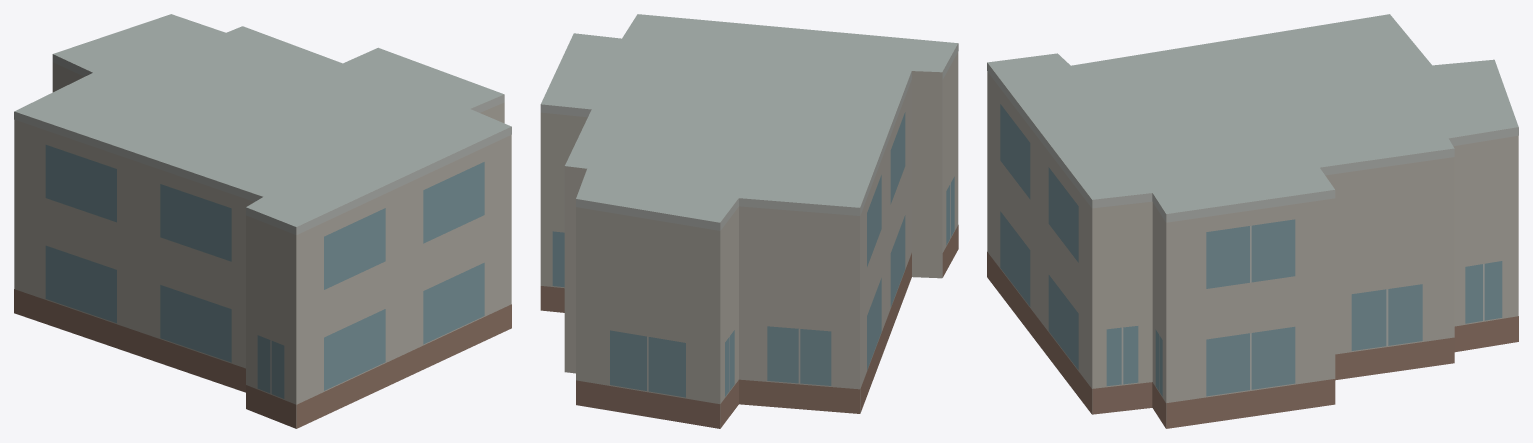
File: survey-upis-32516756.glb
The picture shows the model from 3 angles, left to right: view 1: azimuth 30°, elevation 25°; view 2: azimuth 150°, elevation 25°; view 3: azimuth 270°, elevation 25°; orthographic projection. The views are drawn at different scales.
Parts seen in each view (by area): view 1: survey-upis-32516756.tmp; view 2: survey-upis-32516756.tmp; view 3: survey-upis-32516756.tmp.
Boxes of the visible parts, bbox=[...] form: survey-upis-32516756.tmp: bbox=[14, 14, 511, 428]; survey-upis-32516756.tmp: bbox=[540, 14, 958, 428]; survey-upis-32516756.tmp: bbox=[987, 14, 1518, 428].
Size of the model in its own units: 12.2 by 6.1 by 13.7.
